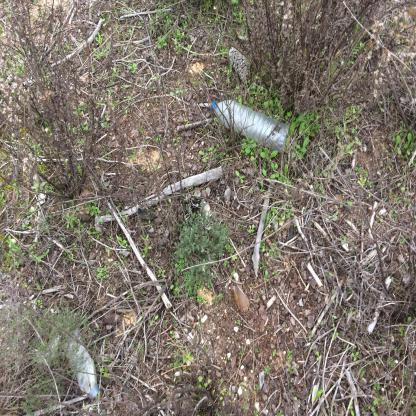plastik: (212, 101, 289, 154), (64, 330, 101, 399)
